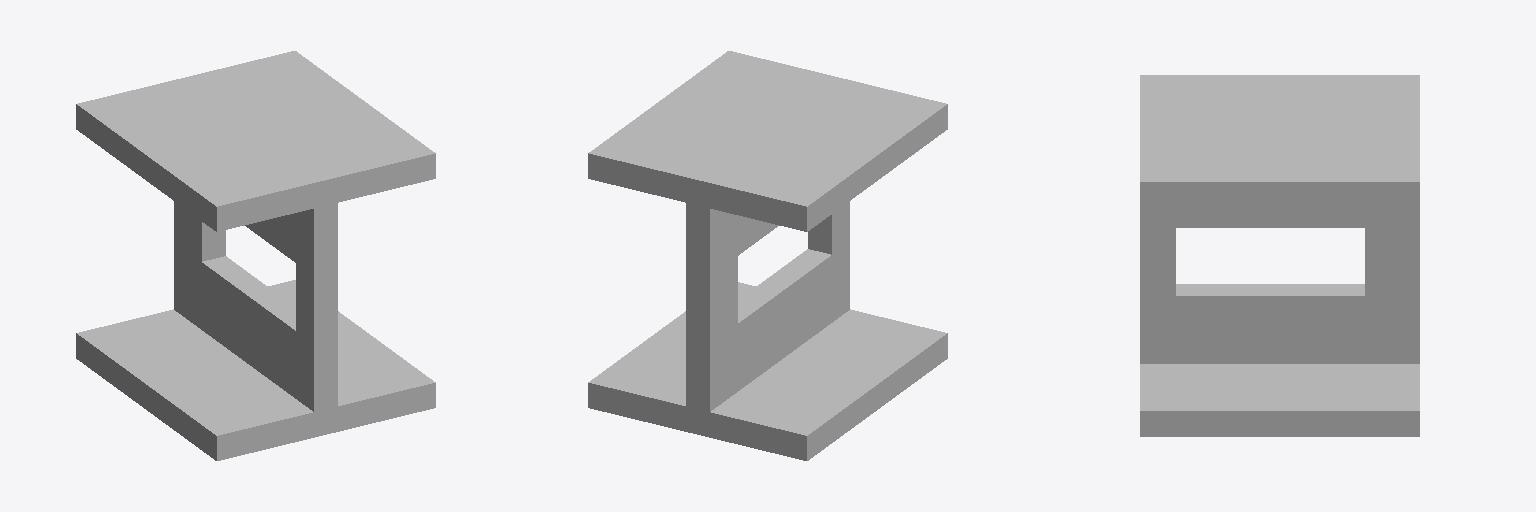
Rendered from metal_carpentry_hbeam.obj.
3 views of the same model, side by side, from view 1: azimuth 30°, elevation 25°; view 2: azimuth 150°, elevation 25°; view 3: azimuth 270°, elevation 25° (orthographic).
Parts seen in each view (by area): view 1: Cube.001; view 2: Cube.001; view 3: Cube.001.
Boxes of the visible parts, x1,y1,x2,y2 form: Cube.001: [76, 51, 435, 460]; Cube.001: [588, 51, 947, 460]; Cube.001: [1140, 75, 1419, 436].
Bounding box in the file's own units: 0.9 × 1 × 1.